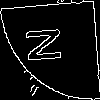N: (25, 25, 71, 64)
